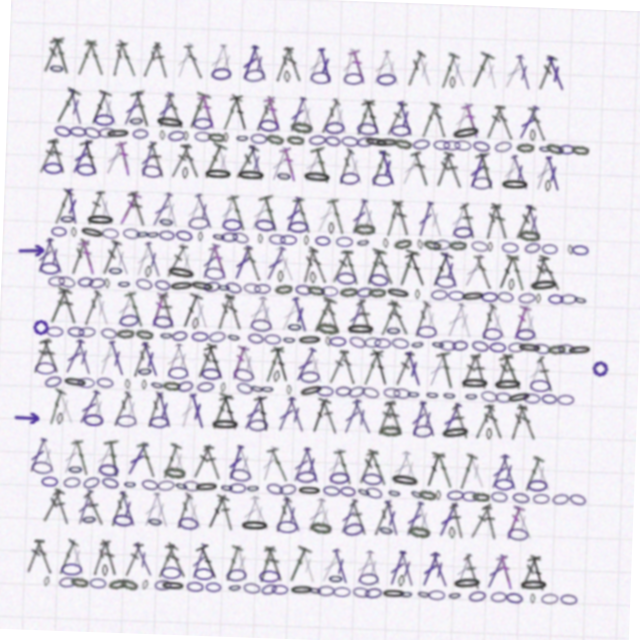chain: (444, 119, 475, 137), (164, 270, 195, 286), (444, 420, 475, 436), (527, 270, 558, 285), (395, 470, 426, 485), (461, 571, 492, 585), (148, 121, 178, 135), (495, 371, 525, 385), (301, 383, 327, 399), (297, 171, 327, 184), (509, 383, 535, 398), (528, 571, 558, 584), (234, 370, 257, 386), (76, 234, 102, 248), (198, 172, 228, 184), (231, 172, 261, 184), (495, 172, 525, 184), (82, 222, 112, 234), (346, 322, 376, 334), (462, 372, 492, 384), (214, 422, 244, 434), (247, 522, 277, 534), (350, 520, 372, 536), (357, 134, 383, 147), (188, 284, 214, 297), (384, 284, 410, 297), (283, 121, 306, 135), (316, 321, 339, 335), (415, 521, 438, 535), (119, 320, 140, 335), (459, 285, 485, 297), (235, 71, 257, 85), (235, 471, 257, 485), (99, 135, 124, 147), (168, 285, 193, 297), (568, 335, 593, 347), (65, 385, 90, 397), (200, 485, 225, 497), (367, 271, 388, 285), (185, 521, 206, 535), (235, 571, 256, 585), (350, 221, 372, 234), (169, 471, 191, 484), (317, 521, 339, 534), (350, 383, 369, 398), (88, 483, 107, 498), (390, 234, 410, 248), (117, 584, 137, 598), (368, 135, 393, 146), (298, 335, 323, 346), (518, 335, 543, 346), (299, 585, 324, 596), (202, 71, 223, 84), (350, 121, 371, 134), (136, 171, 157, 184), (185, 221, 206, 234), (251, 221, 272, 234), (251, 321, 272, 334), (37, 471, 58, 484), (515, 521, 536, 534), (76, 134, 95, 148), (228, 234, 247, 248), (56, 284, 75, 298), (223, 284, 242, 298), (349, 334, 368, 348), (46, 384, 65, 398), (129, 584, 148, 598), (515, 222, 537, 234), (383, 422, 405, 434), (368, 71, 388, 84), (252, 121, 272, 134), (318, 121, 338, 134), (335, 171, 355, 184), (467, 171, 487, 184), (450, 221, 470, 234), (203, 271, 223, 284), (335, 271, 355, 284), (434, 271, 454, 284), (153, 321, 173, 334), (516, 321, 536, 334), (302, 371, 322, 384), (252, 421, 272, 434), (417, 421, 437, 434), (104, 471, 124, 484), (302, 471, 322, 484), (335, 471, 355, 484), (368, 471, 388, 484), (120, 521, 140, 534), (368, 571, 388, 584), (367, 172, 388, 184), (37, 372, 58, 384), (532, 372, 553, 384), (179, 384, 197, 398), (238, 384, 256, 398), (364, 384, 382, 398), (371, 484, 389, 498), (284, 522, 305, 534), (70, 572, 91, 584), (268, 572, 289, 584), (270, 584, 288, 598), (303, 486, 328, 496), (170, 586, 195, 596), (391, 586, 416, 596), (539, 134, 558, 147), (273, 284, 292, 297), (302, 72, 322, 84), (335, 72, 355, 84), (87, 122, 107, 134), (186, 122, 206, 134), (384, 122, 404, 134), (38, 172, 58, 184), (71, 172, 91, 184), (219, 222, 239, 234), (285, 222, 305, 234), (38, 272, 58, 284), (417, 322, 437, 334), (483, 322, 503, 334), (170, 372, 190, 384), (203, 372, 223, 384), (87, 422, 107, 434), (120, 422, 140, 434), (153, 422, 173, 434), (500, 472, 520, 484), (533, 472, 553, 484), (170, 572, 190, 584), (203, 572, 223, 584), (385, 521, 402, 535), (47, 134, 65, 147), (350, 134, 368, 147), (488, 134, 506, 147), (172, 234, 190, 247), (521, 234, 539, 247), (134, 284, 152, 297), (202, 284, 220, 297), (209, 334, 227, 347), (472, 334, 490, 347), (483, 384, 501, 397), (107, 484, 125, 497), (272, 484, 290, 497), (285, 484, 303, 497), (558, 484, 576, 497), (575, 484, 593, 497), (478, 584, 496, 597), (259, 135, 278, 147), (387, 135, 406, 147), (420, 235, 439, 247), (338, 285, 357, 297), (548, 335, 567, 347), (424, 485, 443, 497), (415, 484, 431, 498), (121, 121, 138, 134), (88, 521, 105, 534), (154, 521, 171, 534), (161, 135, 179, 147), (406, 135, 424, 147), (466, 135, 484, 147), (468, 235, 486, 247), (87, 285, 105, 297), (242, 285, 260, 297), (355, 285, 373, 297), (517, 285, 535, 297), (534, 335, 552, 347), (199, 385, 217, 397), (69, 485, 87, 497), (147, 485, 165, 497), (163, 485, 181, 497), (518, 485, 536, 497), (68, 585, 86, 597), (362, 585, 380, 597), (374, 585, 392, 597), (515, 585, 533, 597), (271, 171, 287, 184), (155, 221, 171, 234), (139, 371, 155, 384), (362, 484, 378, 497), (318, 135, 335, 147), (153, 285, 170, 297), (101, 335, 118, 347), (172, 335, 189, 347), (248, 335, 265, 347), (302, 135, 320, 146), (510, 135, 528, 146), (446, 235, 464, 246), (306, 285, 324, 296), (367, 285, 385, 296), (117, 335, 135, 346), (136, 335, 154, 346), (392, 335, 410, 346), (80, 585, 98, 596), (40, 72, 56, 84), (56, 222, 72, 234), (106, 272, 122, 284), (287, 322, 303, 334), (386, 322, 402, 334), (73, 472, 89, 484), (337, 572, 353, 584), (63, 135, 80, 146), (92, 135, 109, 146), (335, 135, 352, 146), (448, 135, 465, 146), (120, 235, 137, 246), (218, 235, 235, 246), (431, 235, 448, 246), (47, 285, 64, 296), (76, 285, 93, 296), (294, 285, 311, 296), (430, 285, 447, 296), (496, 285, 513, 296), (559, 285, 576, 296), (68, 335, 85, 346), (79, 335, 96, 346), (365, 335, 382, 346), (509, 335, 526, 346), (559, 335, 576, 346), (99, 385, 116, 396), (386, 385, 403, 396), (396, 385, 413, 396), (189, 485, 206, 496), (329, 485, 346, 496), (453, 485, 470, 496), (497, 485, 514, 496), (164, 585, 181, 596), (253, 585, 270, 596), (327, 585, 344, 596), (500, 585, 517, 596), (551, 585, 568, 596), (570, 585, 587, 596), (201, 136, 219, 146), (280, 136, 298, 146), (565, 136, 583, 146), (353, 235, 368, 247), (572, 285, 587, 297), (411, 335, 426, 347), (152, 385, 167, 397), (165, 386, 183, 396), (252, 385, 267, 397), (180, 485, 195, 497), (478, 486, 496, 496), (126, 135, 142, 146), (453, 335, 469, 346), (338, 385, 354, 396), (346, 485, 362, 496), (188, 136, 205, 146), (244, 136, 261, 146), (427, 136, 444, 146), (437, 136, 454, 146), (552, 136, 569, 146), (99, 236, 116, 246), (266, 236, 283, 246), (277, 236, 294, 246), (333, 236, 350, 246), (499, 236, 516, 246), (569, 236, 586, 246), (253, 286, 270, 296), (320, 286, 337, 296), (447, 286, 464, 296), (480, 286, 497, 296), (47, 336, 64, 346), (192, 336, 209, 346), (265, 336, 282, 346), (330, 336, 347, 346), (375, 336, 392, 346), (440, 336, 457, 346), (490, 336, 507, 346), (80, 386, 97, 396), (319, 386, 336, 396), (526, 386, 543, 396), (560, 386, 577, 396), (47, 486, 64, 496), (235, 486, 252, 496), (468, 486, 485, 496), (539, 486, 556, 496), (99, 586, 116, 596), (196, 586, 213, 596), (281, 586, 298, 596), (343, 586, 360, 596), (438, 586, 455, 596), (132, 235, 147, 246), (227, 335, 242, 346), (393, 485, 408, 496), (237, 585, 252, 596), (317, 585, 332, 596), (426, 585, 441, 596), (457, 585, 472, 596), (48, 236, 64, 246), (156, 236, 172, 246), (312, 236, 328, 246), (539, 236, 555, 246), (547, 286, 563, 296), (498, 386, 514, 396), (544, 386, 560, 396), (215, 586, 231, 596), (143, 235, 157, 246), (209, 235, 223, 246), (432, 335, 446, 346), (252, 485, 266, 496), (229, 136, 243, 146), (532, 136, 546, 146), (116, 286, 130, 296), (216, 286, 230, 296), (160, 336, 174, 346), (283, 336, 297, 346), (263, 386, 277, 396), (409, 386, 423, 396), (428, 386, 442, 396), (445, 386, 459, 396), (467, 386, 481, 396), (129, 486, 143, 496), (226, 486, 240, 496), (409, 586, 423, 596), (275, 72, 282, 84), (143, 272, 150, 284), (308, 272, 315, 284), (192, 322, 199, 334), (275, 372, 282, 384), (60, 422, 67, 434), (456, 522, 463, 534), (407, 572, 414, 584), (441, 72, 447, 84), (523, 122, 529, 134), (177, 172, 183, 184), (540, 172, 546, 184), (325, 222, 331, 234), (276, 272, 282, 284), (507, 272, 513, 284), (490, 422, 496, 434), (111, 572, 117, 584), (414, 236, 421, 246), (151, 586, 158, 596), (153, 136, 159, 146), (68, 236, 74, 246), (380, 236, 386, 246), (565, 236, 571, 246), (103, 286, 109, 296), (326, 336, 332, 346), (127, 386, 133, 396), (53, 586, 59, 596), (177, 136, 182, 146), (217, 136, 222, 146), (195, 236, 200, 246), (255, 236, 260, 246), (301, 236, 306, 246), (485, 236, 490, 246), (414, 286, 419, 296), (535, 286, 540, 296), (144, 386, 149, 396), (223, 386, 228, 396), (289, 386, 294, 396), (442, 486, 447, 496), (540, 586, 545, 596)
double: (44, 96, 74, 135), (500, 346, 529, 385), (203, 547, 232, 585), (458, 46, 486, 85), (194, 146, 222, 185), (309, 296, 337, 335), (293, 546, 321, 585), (177, 96, 204, 135), (45, 296, 72, 335), (402, 247, 429, 285), (204, 347, 231, 385), (210, 497, 237, 535), (40, 46, 66, 85), (122, 96, 148, 135), (304, 146, 330, 185), (254, 196, 280, 235), (211, 396, 237, 435), (227, 147, 254, 184), (79, 97, 105, 135), (353, 97, 379, 135), (426, 247, 452, 285), (492, 247, 518, 285), (376, 297, 402, 335), (221, 397, 247, 435), (271, 447, 297, 485), (162, 547, 188, 585), (469, 146, 494, 185), (360, 246, 385, 285), (393, 246, 418, 285), (492, 47, 518, 84), (508, 97, 534, 134), (112, 197, 138, 234), (145, 197, 171, 234), (459, 247, 485, 284), (294, 347, 320, 384), (79, 397, 105, 434), (353, 397, 379, 434), (129, 447, 155, 484), (46, 497, 72, 534), (254, 497, 280, 534), (139, 547, 165, 584), (63, 47, 88, 85), (106, 47, 131, 85), (211, 97, 236, 135), (221, 97, 246, 135), (409, 97, 434, 135), (73, 147, 98, 185), (46, 197, 71, 235), (178, 297, 203, 335), (271, 347, 296, 385), (370, 447, 395, 485), (525, 447, 550, 485), (63, 547, 88, 585), (535, 547, 560, 585), (436, 47, 461, 84), (535, 47, 560, 84), (89, 97, 114, 134), (63, 147, 88, 184), (393, 147, 418, 184), (89, 197, 114, 234), (188, 197, 213, 234), (244, 197, 269, 234), (310, 197, 335, 234), (261, 247, 286, 284), (271, 247, 296, 284), (244, 297, 269, 334), (485, 297, 510, 334), (40, 347, 65, 384), (63, 347, 88, 384), (244, 397, 269, 434), (442, 397, 467, 434), (535, 447, 560, 484), (287, 497, 312, 534), (442, 497, 467, 534), (518, 497, 543, 534), (327, 547, 352, 584), (436, 547, 461, 584), (492, 547, 517, 584), (74, 47, 98, 85), (427, 47, 451, 85), (344, 97, 368, 135), (361, 147, 385, 185), (262, 347, 286, 385), (361, 347, 385, 385), (371, 347, 395, 385), (437, 347, 461, 385), (311, 397, 335, 435), (140, 447, 164, 485), (163, 447, 187, 485), (427, 447, 451, 485), (437, 447, 461, 485), (89, 498, 114, 534), (371, 47, 395, 84), (113, 97, 137, 134), (97, 147, 121, 184), (295, 147, 319, 184), (404, 147, 428, 184), (503, 147, 527, 184), (509, 197, 533, 234), (41, 247, 65, 284), (107, 247, 131, 284), (57, 297, 81, 334), (278, 297, 302, 334), (443, 297, 467, 334), (140, 347, 164, 384), (57, 397, 81, 434), (288, 397, 312, 434), (387, 397, 411, 434), (97, 447, 121, 484), (394, 447, 418, 484), (404, 447, 428, 484), (470, 447, 494, 484), (493, 447, 517, 484), (123, 497, 147, 534), (189, 497, 213, 534), (311, 497, 335, 534), (272, 547, 296, 584), (361, 547, 385, 584), (427, 547, 451, 584), (526, 547, 550, 584), (222, 197, 245, 235), (288, 197, 311, 235), (338, 247, 361, 285), (123, 297, 146, 335), (338, 447, 361, 485), (460, 447, 483, 485), (229, 547, 252, 585), (536, 248, 560, 284), (31, 47, 54, 84), (239, 47, 262, 84), (338, 47, 361, 84), (361, 47, 384, 84), (394, 47, 417, 84), (404, 47, 427, 84), (526, 47, 549, 84), (189, 97, 212, 134), (255, 97, 278, 134), (387, 97, 410, 134), (453, 97, 476, 134), (41, 147, 64, 184), (262, 147, 285, 184), (338, 147, 361, 184), (371, 147, 394, 184), (123, 197, 146, 234), (354, 197, 377, 234), (420, 197, 443, 234), (443, 197, 466, 234), (486, 197, 509, 234), (519, 197, 542, 234), (97, 247, 120, 284), (140, 247, 163, 284), (206, 247, 229, 284), (229, 247, 252, 284), (328, 247, 351, 284), (437, 247, 460, 284), (90, 297, 113, 334), (113, 297, 136, 334), (189, 297, 212, 334), (255, 297, 278, 334), (387, 297, 410, 334), (420, 297, 443, 334), (74, 347, 97, 384), (107, 347, 130, 384), (173, 347, 196, 384), (196, 347, 219, 384), (239, 347, 262, 384), (404, 347, 427, 384), (427, 347, 450, 384), (278, 397, 301, 434), (344, 397, 367, 434), (420, 397, 443, 434), (31, 447, 54, 484), (173, 447, 196, 484), (196, 447, 219, 484), (239, 447, 262, 484), (295, 447, 318, 484), (361, 447, 384, 484), (503, 447, 526, 484), (321, 497, 344, 534), (344, 497, 367, 534), (410, 497, 433, 534), (420, 497, 443, 534), (338, 547, 361, 584), (371, 547, 394, 584), (322, 197, 344, 235), (378, 197, 400, 235), (504, 247, 526, 285), (48, 397, 70, 435), (256, 397, 278, 435), (75, 447, 97, 485), (108, 447, 130, 485), (263, 547, 285, 585), (311, 98, 334, 134), (437, 148, 460, 184), (163, 248, 186, 284), (476, 398, 499, 434), (476, 498, 499, 534), (173, 548, 196, 584), (164, 47, 186, 84), (197, 47, 219, 84), (230, 47, 252, 84), (296, 47, 318, 84), (504, 47, 526, 84), (279, 97, 301, 134), (289, 97, 311, 134), (322, 97, 344, 134), (207, 147, 229, 184), (240, 147, 262, 184), (273, 147, 295, 184), (461, 147, 483, 184), (527, 147, 549, 184), (537, 147, 559, 184), (213, 197, 235, 234), (388, 197, 410, 234), (32, 247, 54, 284), (65, 247, 87, 284), (75, 247, 97, 284), (174, 247, 196, 284), (289, 297, 311, 334), (345, 297, 367, 334), (454, 297, 476, 334), (520, 297, 542, 334), (164, 347, 186, 384), (306, 347, 328, 384), (124, 397, 146, 434), (157, 397, 179, 434), (190, 397, 212, 434), (42, 447, 64, 484), (65, 447, 87, 484), (306, 447, 328, 484), (147, 497, 169, 534), (157, 497, 179, 534), (246, 497, 268, 534), (388, 497, 410, 534), (510, 497, 532, 534), (75, 547, 97, 584), (108, 547, 130, 584), (306, 547, 328, 584), (395, 547, 417, 584), (405, 547, 427, 584), (461, 547, 483, 584), (504, 547, 526, 584), (131, 48, 153, 84), (174, 48, 196, 84), (246, 98, 268, 134), (378, 98, 400, 134), (164, 148, 186, 184), (114, 398, 136, 434), (322, 398, 344, 434), (207, 448, 229, 484), (355, 498, 377, 534), (378, 498, 400, 534), (306, 47, 327, 84), (58, 97, 79, 134), (444, 97, 465, 134), (477, 97, 498, 134), (141, 147, 162, 184), (174, 147, 195, 184), (428, 147, 449, 184), (157, 197, 178, 234), (180, 197, 201, 234), (279, 197, 300, 234), (345, 197, 366, 234), (411, 197, 432, 234), (131, 247, 152, 284), (197, 247, 218, 284), (372, 247, 393, 284), (157, 297, 178, 334), (213, 297, 234, 334), (355, 297, 376, 334), (510, 297, 531, 334), (98, 347, 119, 384), (230, 347, 251, 384), (395, 347, 416, 384), (461, 347, 482, 384), (527, 347, 548, 384), (487, 397, 508, 434), (510, 397, 531, 434), (520, 397, 541, 434), (230, 447, 251, 484), (81, 497, 102, 534), (197, 547, 218, 584), (157, 98, 178, 134), (487, 98, 508, 134), (520, 98, 541, 134), (32, 148, 53, 184), (306, 248, 327, 284), (471, 248, 492, 284), (81, 298, 102, 334), (329, 348, 350, 384), (537, 348, 558, 384), (454, 398, 475, 434), (58, 498, 79, 534), (42, 548, 63, 584), (471, 548, 492, 584), (274, 47, 294, 84), (472, 47, 492, 84), (148, 97, 168, 134), (109, 147, 129, 184), (132, 147, 152, 184), (495, 147, 515, 184), (455, 197, 475, 234), (528, 247, 548, 284), (148, 297, 168, 334), (472, 347, 492, 384), (495, 347, 515, 384), (92, 397, 112, 434), (181, 397, 201, 434), (379, 397, 399, 434), (412, 397, 432, 434), (264, 447, 284, 484), (330, 447, 350, 484), (33, 547, 53, 584), (241, 547, 261, 584), (142, 48, 162, 84), (264, 48, 284, 84), (241, 248, 261, 284), (33, 348, 53, 384), (132, 348, 152, 384), (115, 498, 135, 534), (132, 548, 152, 584), (208, 47, 227, 84), (330, 47, 349, 84), (59, 197, 78, 234), (82, 197, 101, 234), (478, 197, 497, 234), (297, 247, 316, 284), (224, 297, 243, 334), (323, 297, 342, 334), (412, 297, 431, 334), (148, 397, 167, 434), (181, 497, 200, 534), (280, 497, 299, 534), (455, 497, 474, 534), (488, 497, 507, 534), (99, 547, 118, 584), (224, 498, 243, 534), (423, 97, 441, 134), (331, 147, 349, 184), (479, 297, 497, 334), (341, 347, 359, 384), (101, 47, 117, 84)
noise: (591, 348, 612, 369), (32, 328, 51, 347), (15, 255, 44, 267), (17, 423, 45, 434)
